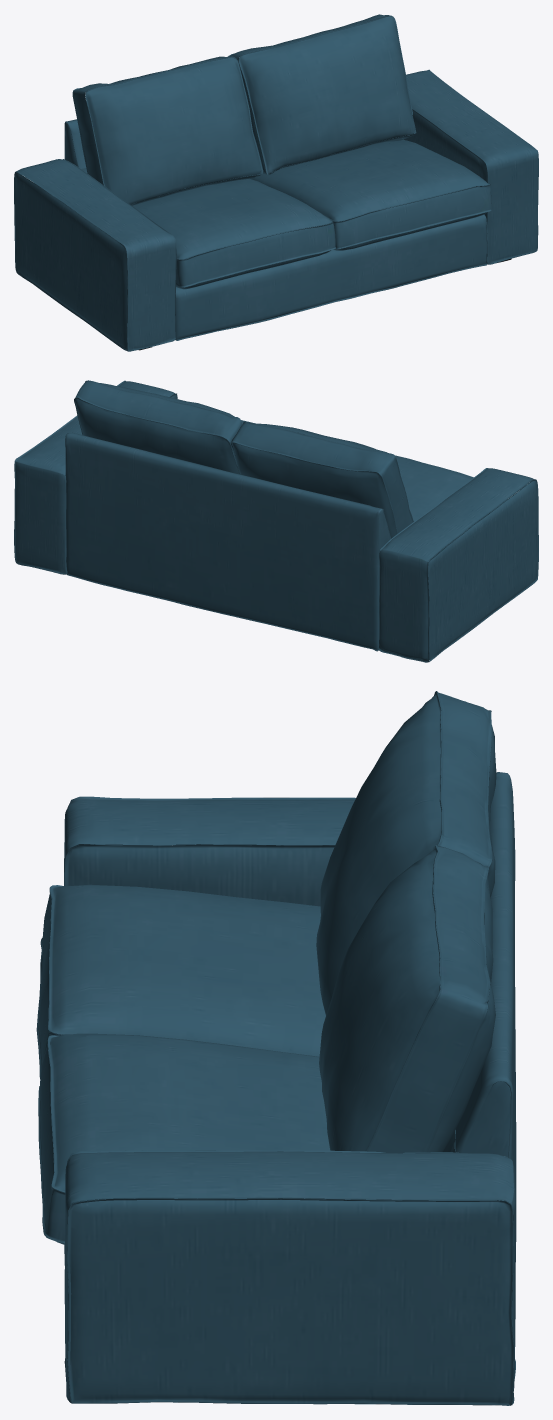
File: cover-tallmyra-niebieski.glb
The picture shows the model from 3 angles, top to bottom: view 1: azimuth 30°, elevation 25°; view 2: azimuth 150°, elevation 25°; view 3: azimuth 270°, elevation 25°; orthographic projection. The views are drawn at different scales.
Parts seen in each view (by area): view 1: Mesh_0; view 2: Mesh_0; view 3: Mesh_0.
Boxes of the visible parts, x1,y1,x2,y2 form: Mesh_0: (14,14,538,351); Mesh_0: (14,380,538,662); Mesh_0: (36,691,516,1405).
Bounding box in the file's own units: 1.9 × 0.8299 × 0.9501.
2 materials, 2 textured.
